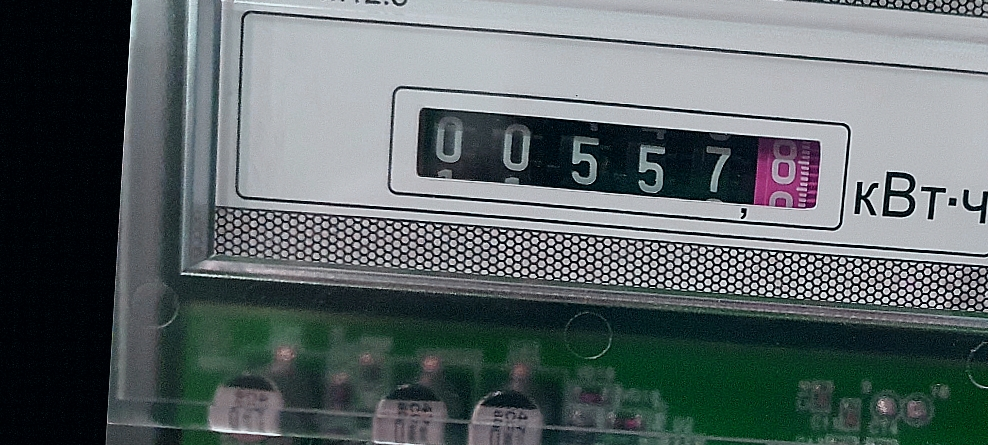0: (429, 109, 467, 167), (497, 118, 534, 172)
5: (630, 136, 671, 196), (565, 129, 602, 188)
7: (696, 139, 732, 196)
8: (768, 136, 799, 187)
screen: (380, 76, 856, 235)
